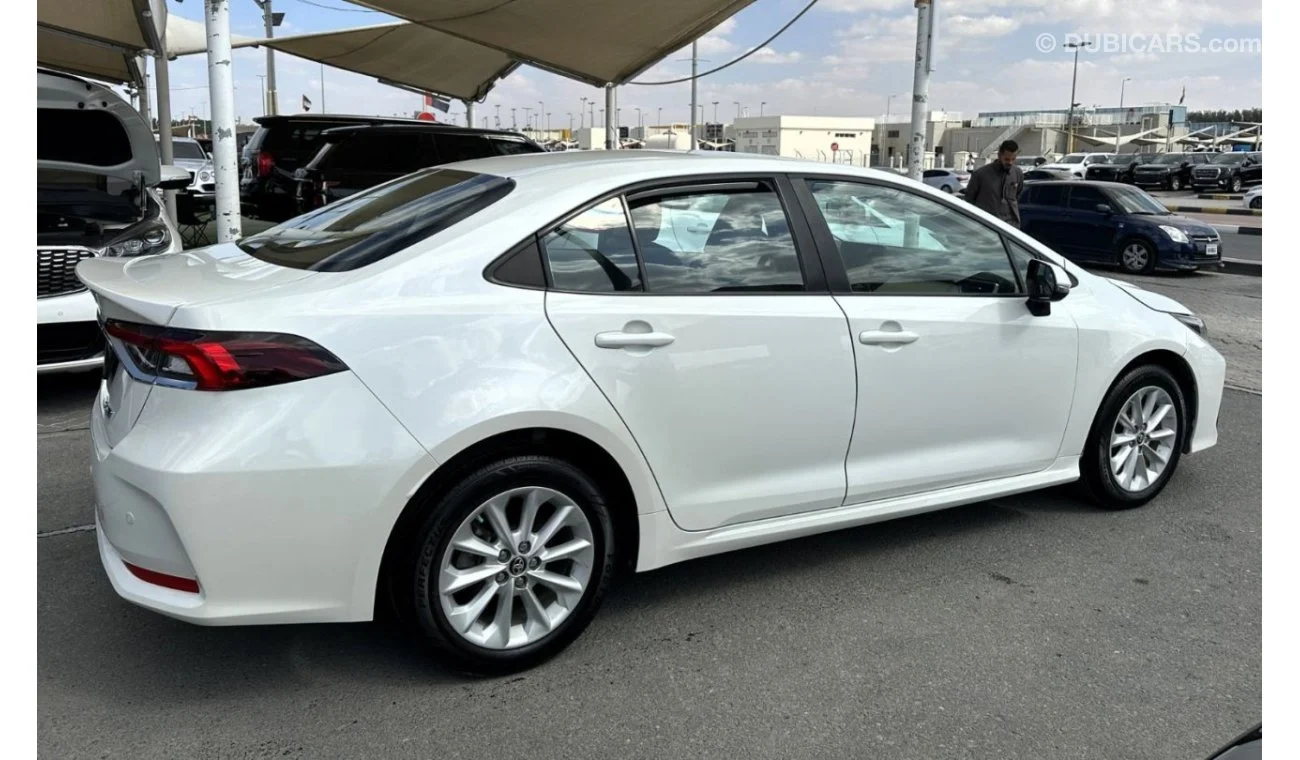car: (75, 138, 1230, 678), (985, 171, 1228, 281)
